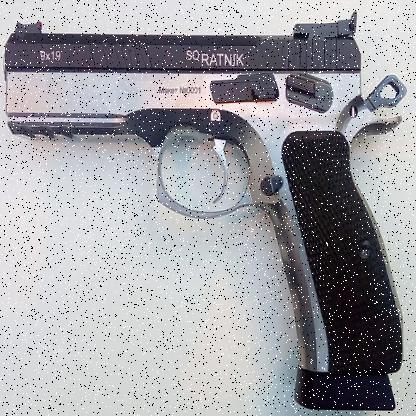pistol: (6, 14, 409, 413)
